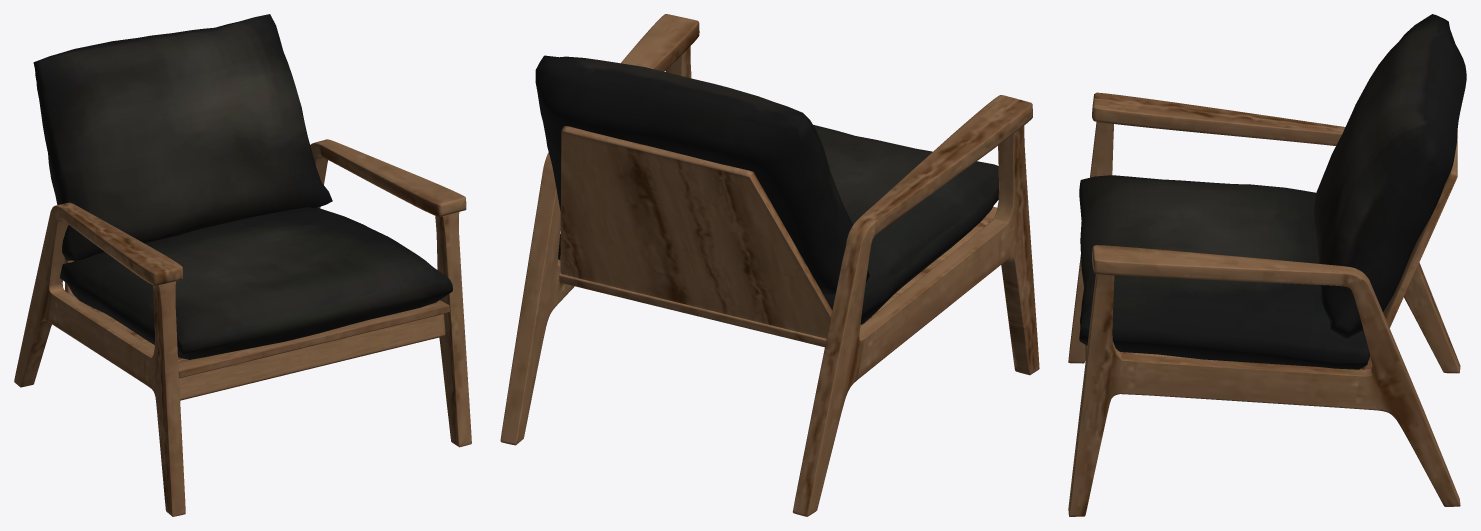
Rendered from ph-modern-arm-chair-01.glb.
3 renders of one model, left to right at view 1: azimuth 30°, elevation 25°; view 2: azimuth 150°, elevation 25°; view 3: azimuth 270°, elevation 25°, orthographic. The views are drawn at different scales.
Parts seen in each view (by area): view 1: modern_arm_chair_01; view 2: modern_arm_chair_01; view 3: modern_arm_chair_01.
Boxes of the visible parts, x1,y1,x2,y2 form: modern_arm_chair_01: (14, 14, 471, 516); modern_arm_chair_01: (500, 14, 1039, 516); modern_arm_chair_01: (1068, 14, 1466, 516).
Size of the model in its own units: 1 by 1 by 1.
Materials: 2 (2 with a texture image).
